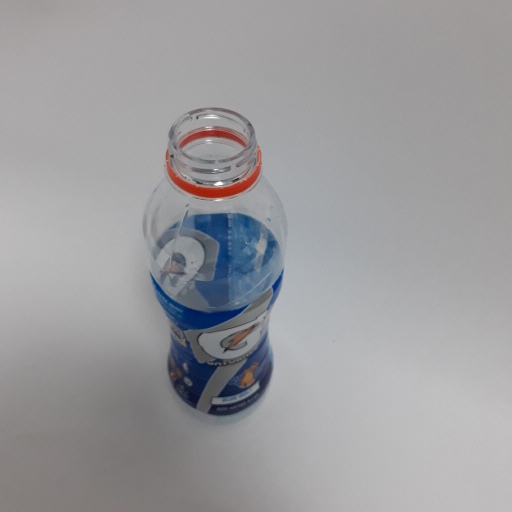Plastic_0: (141, 107, 287, 426)
